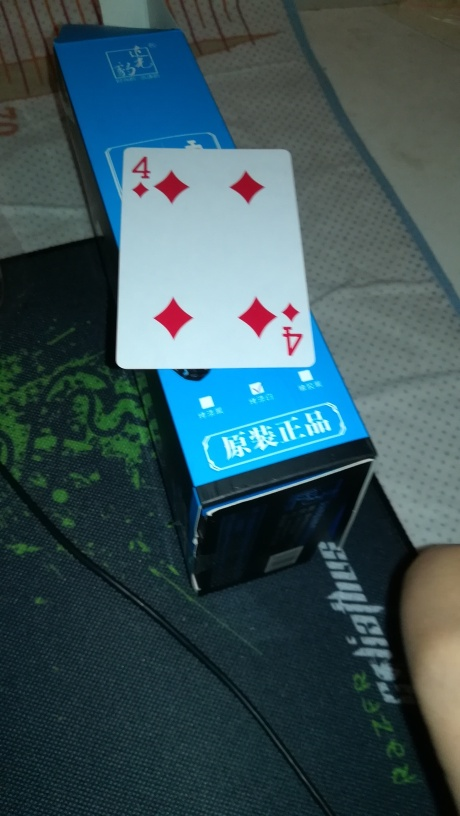fk 4: (116, 143, 316, 374)
